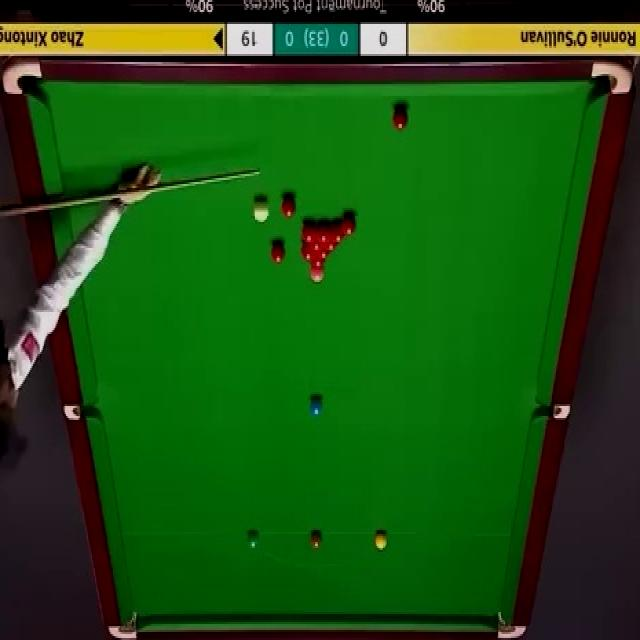pocket: (3, 56, 45, 101), (590, 58, 632, 96), (497, 611, 527, 640), (62, 402, 103, 423), (110, 611, 139, 638), (537, 403, 569, 420)
